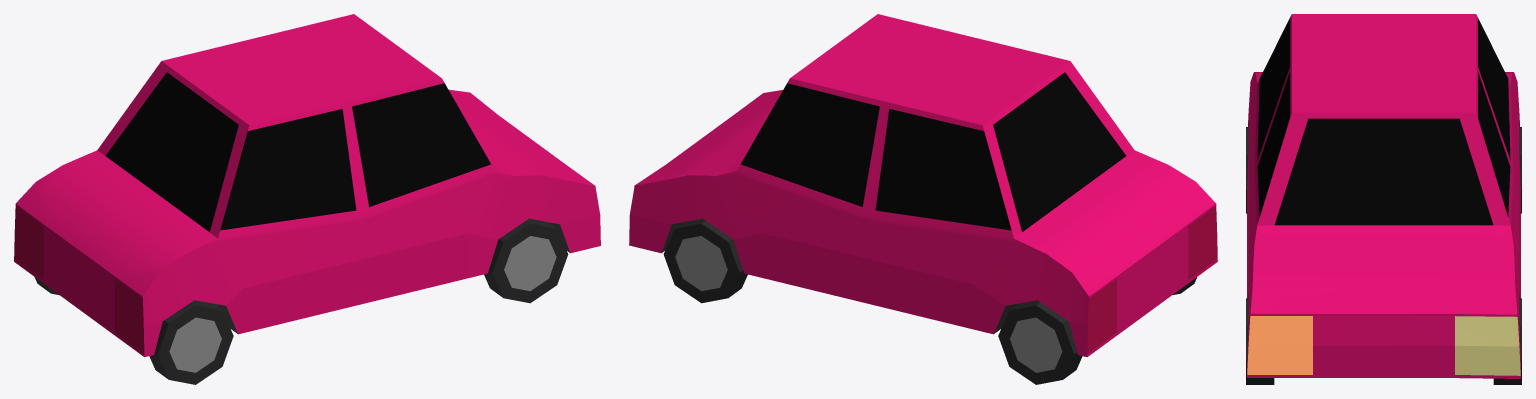
File: Car_01.fbx
3 views of the same model, side by side, from view 1: azimuth 30°, elevation 25°; view 2: azimuth 150°, elevation 25°; view 3: azimuth 270°, elevation 25° (orthographic). The views are drawn at different scales.
Parts seen in each view (by area): view 1: Car_01; view 2: Car_01; view 3: Car_01.
Boxes of the visible parts, <box> form: Car_01: <box>14,14,600,384</box>; Car_01: <box>629,14,1217,384</box>; Car_01: <box>1246,14,1521,384</box>.
Size of the model in its own units: 304 by 143 by 151.
2 materials, 1 textured.
